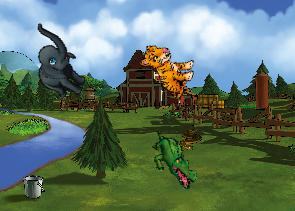crocodile: (139, 128, 208, 191)
elephant: (13, 22, 101, 104)
tiger: (134, 41, 199, 100)
